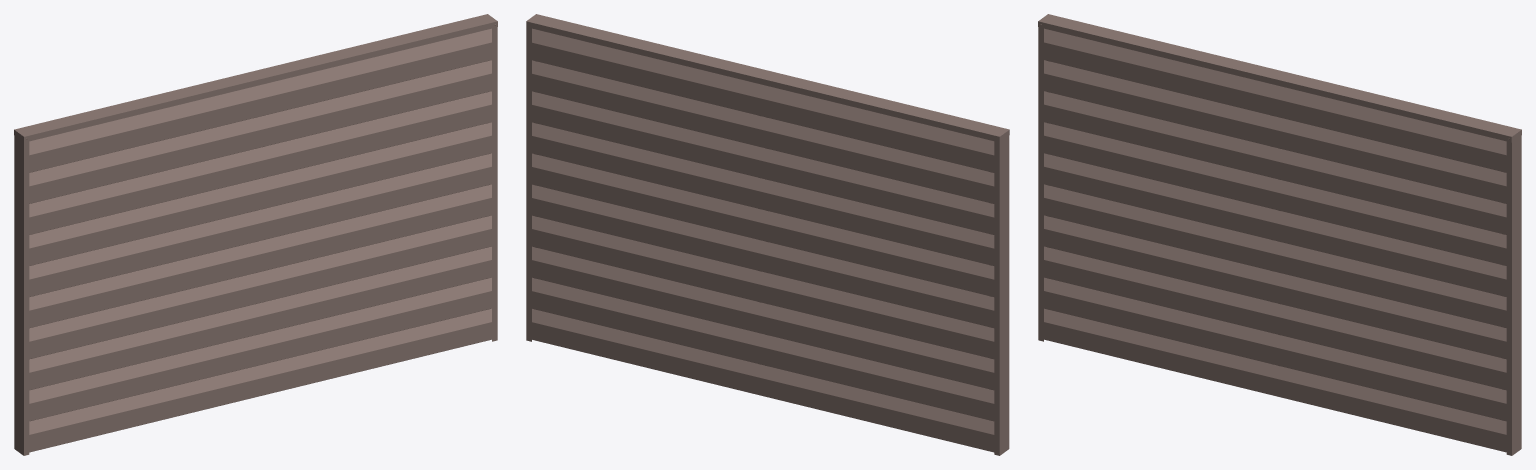
File: mx60-duo.glb
3 views of the same model, side by side, from view 1: azimuth 30°, elevation 25°; view 2: azimuth 150°, elevation 25°; view 3: azimuth 330°, elevation 25° (orthographic).
Parts seen in each view (by area): view 1: MX 60 DUO (×10), Laterale (×3); view 2: MX 60 DUO (×10), Laterale (×3); view 3: MX 60 DUO (×10), Laterale (×3).
Boxes of the visible parts, x1=… form: MX 60 DUO (×10): x1=29, y1=28, x2=491, y2=452; Laterale (×3): x1=14, y1=14, x2=497, y2=455; MX 60 DUO (×10): x1=532, y1=28, x2=994, y2=452; Laterale (×3): x1=526, y1=14, x2=1009, y2=455; MX 60 DUO (×10): x1=1044, y1=28, x2=1506, y2=452; Laterale (×3): x1=1038, y1=14, x2=1521, y2=455.
Bounding box in the file's own units: 1.8 × 1.16 × 0.067.
